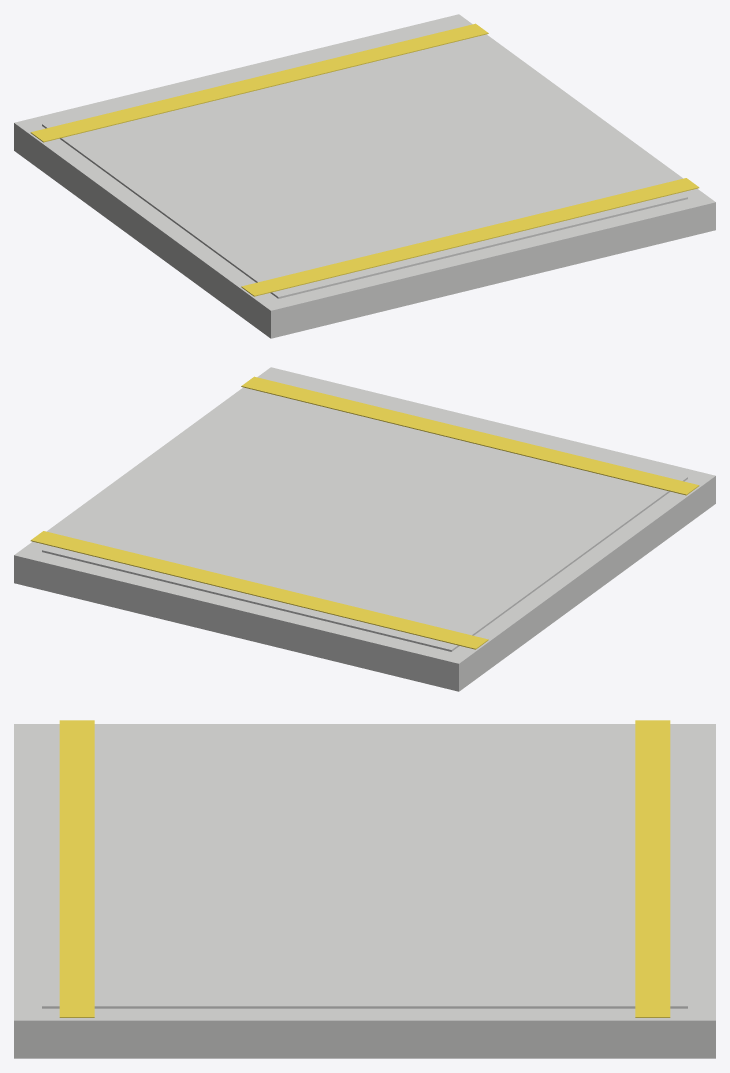
Rendered from vertical-farm-and-hydroponics-tower-vertical-farm-and--5df713c9__38393.glb.
3 renders of one model, top to bottom at view 1: azimuth 30°, elevation 25°; view 2: azimuth 150°, elevation 25°; view 3: azimuth 270°, elevation 25°, orthographic. The views are drawn at different scales.
Visible parts, largest first — view 1: vertical-farm-and-hydroponics-tower-grow-room-floor-tile-wal (×2); view 2: vertical-farm-and-hydroponics-tower-grow-room-floor-tile-wal (×2); view 3: vertical-farm-and-hydroponics-tower-grow-room-floor-tile-wal (×2).
Boxes of the visible parts, box(x1,y1,x2,y2) form: vertical-farm-and-hydroponics-tower-grow-room-floor-tile-wal (×2): box(14, 14, 715, 338); vertical-farm-and-hydroponics-tower-grow-room-floor-tile-wal (×2): box(14, 367, 715, 691); vertical-farm-and-hydroponics-tower-grow-room-floor-tile-wal (×2): box(14, 720, 715, 1058).
Size of the model in its own units: 2 by 0.1319 by 2.
